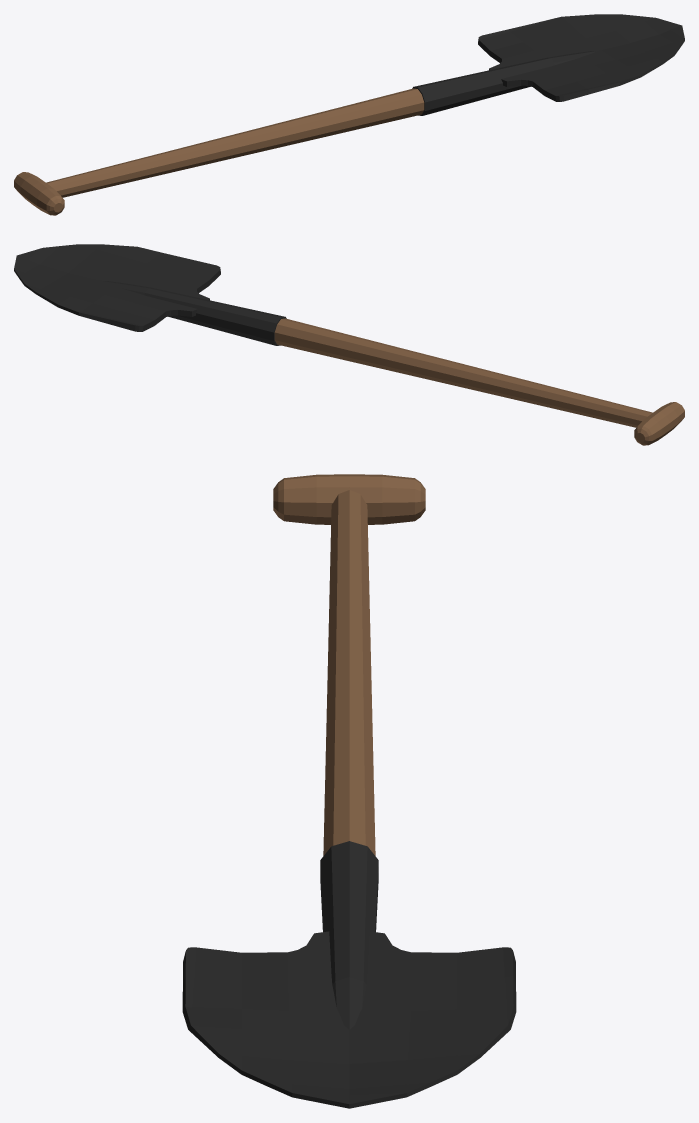
File: SM_Shovel_01.glb
The picture shows the model from 3 angles, top to bottom: view 1: azimuth 30°, elevation 25°; view 2: azimuth 150°, elevation 25°; view 3: azimuth 270°, elevation 25°; orthographic projection. The views are drawn at different scales.
Parts seen in each view (by area): view 1: SM_Shovel_01; view 2: SM_Shovel_01; view 3: SM_Shovel_01.
Part boxes in pixels (x1,y1,x2,y2): SM_Shovel_01: [14, 14, 684, 215]; SM_Shovel_01: [14, 244, 684, 445]; SM_Shovel_01: [182, 474, 516, 1108].
Bounding box in the file's own units: 1.53 × 0.0625 × 0.3382.
1 material, 1 textured.
